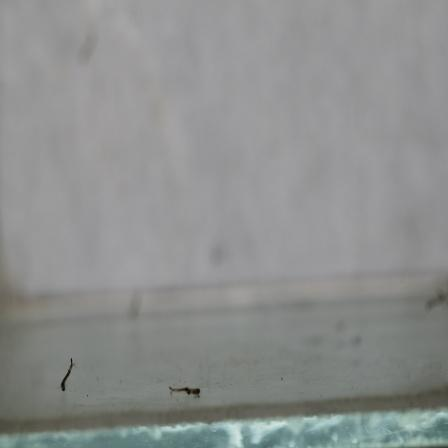Jentik-Nyamuk: (58, 354, 77, 395), (166, 380, 205, 397)
